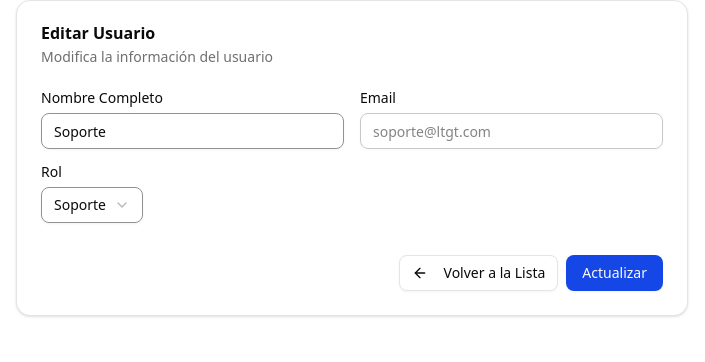
Test: UserForm › does not save an edit that leaves the name empty
Clear the field labelled "Nombre Completo" at (192, 131), box [41,113,344,149]
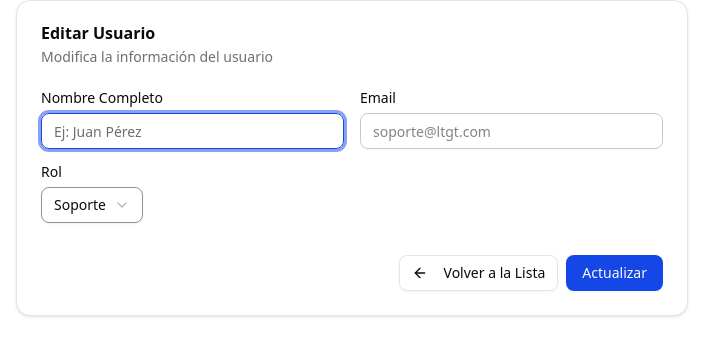
Click the button "Actualizar".
click(615, 273)  # box [566,255,663,291]
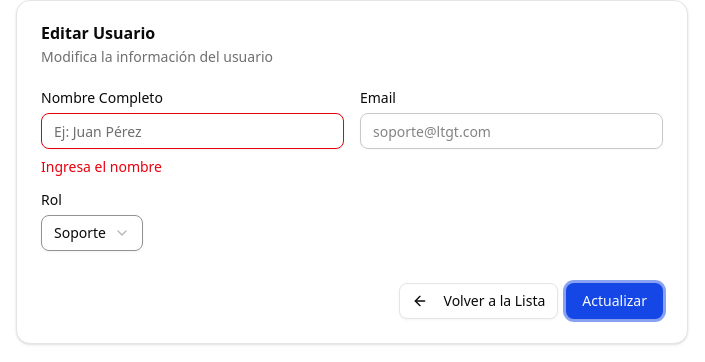
Check: the text "Ingresa el nombre" is shown, box [41,157,162,176]
